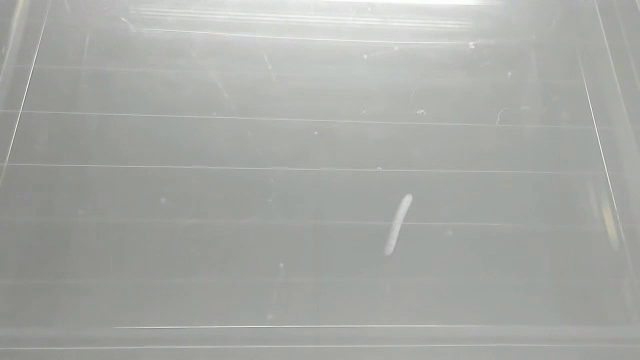alpha: (380, 192, 417, 258)
